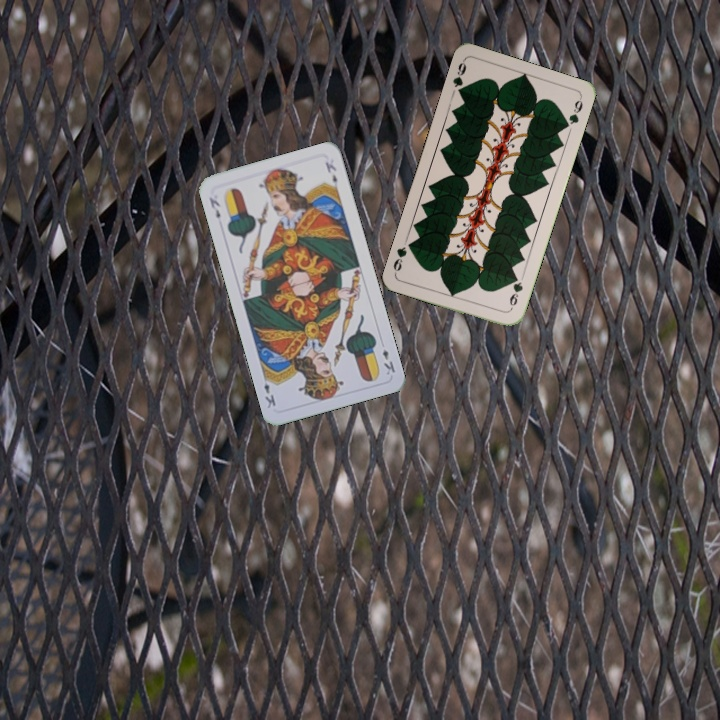EK: (378, 345, 398, 377), (205, 193, 223, 221)
G9: (449, 56, 469, 98), (505, 272, 525, 313)
